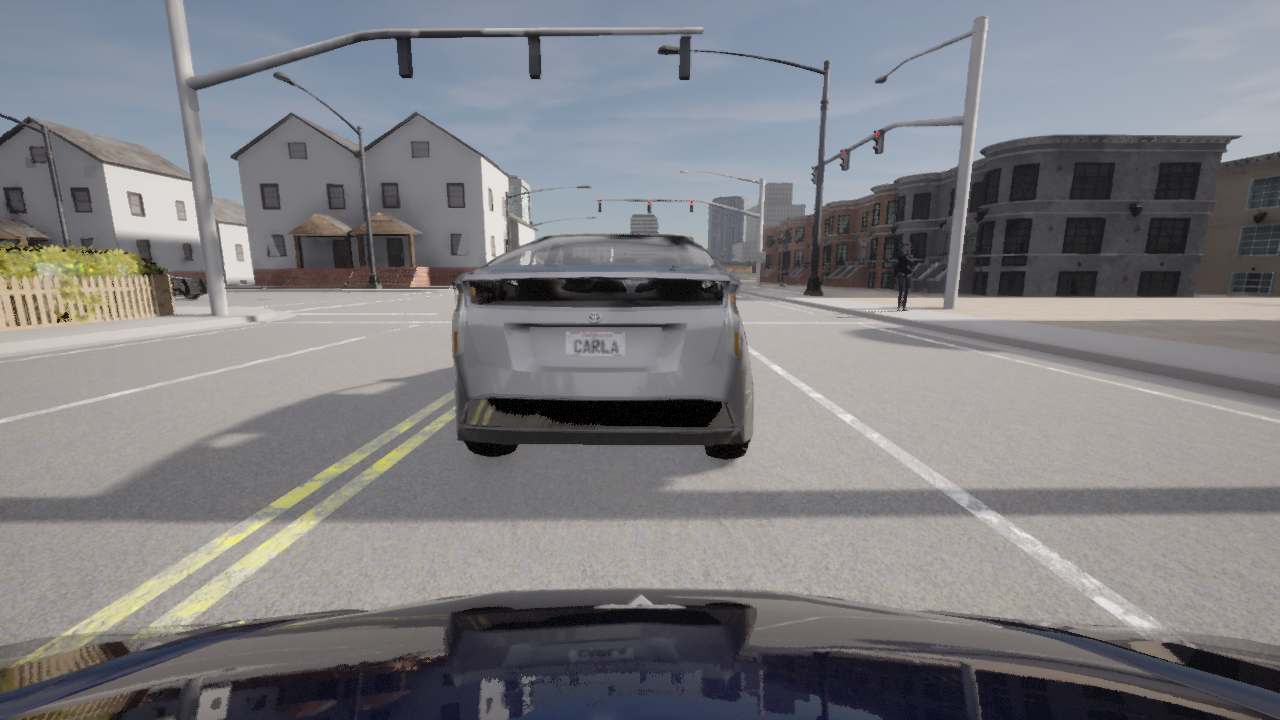cyclist: (0, 588, 1279, 719), (452, 234, 753, 458), (166, 268, 206, 298)
pedestrian: (893, 243, 916, 311)
